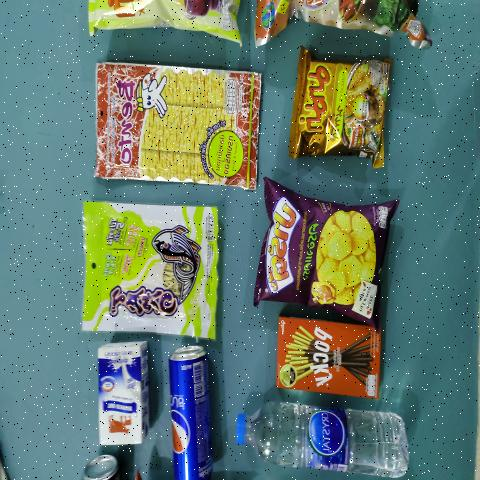bento_red: (102, 71, 254, 173)
crystal: (233, 405, 413, 480)
mama: (292, 62, 385, 156)
party_purple: (269, 189, 372, 313)
pepsi_blue: (172, 350, 216, 480)
pokki: (280, 319, 373, 395)
taro_yellow: (88, 209, 217, 328)
thai_denmark: (99, 341, 147, 442)
